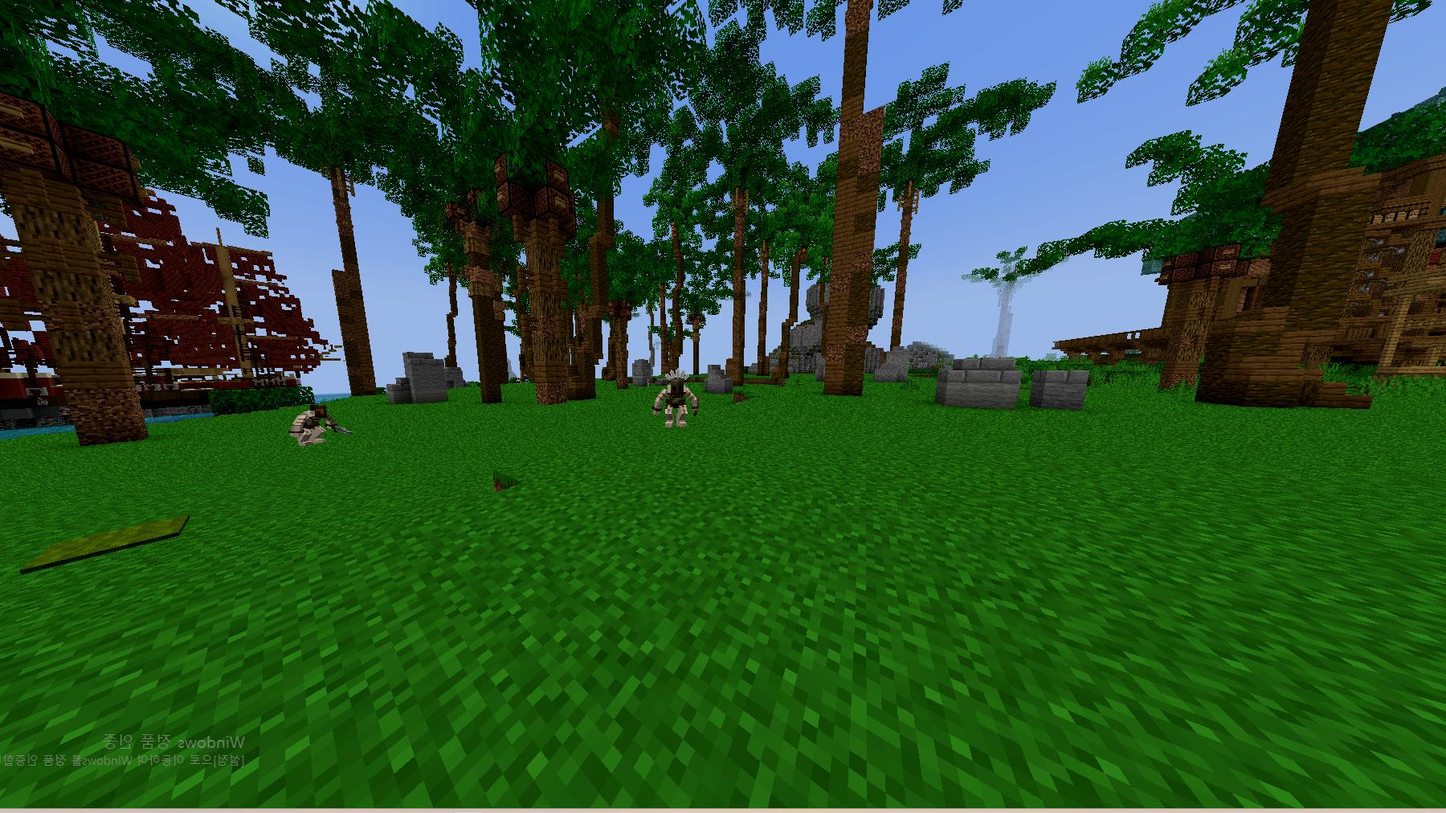bow_indian: (648, 365, 700, 430)
